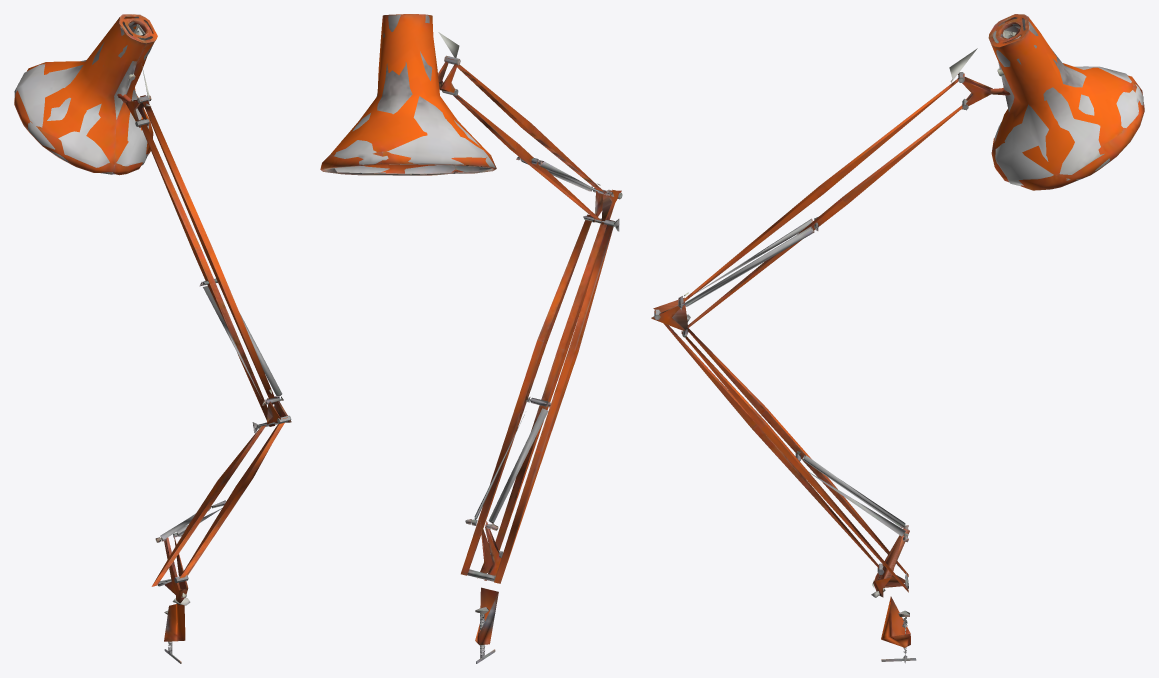
The model's file is task-lamp-low.glb.
The picture shows the model from 3 angles, left to right: view 1: azimuth 30°, elevation 25°; view 2: azimuth 150°, elevation 25°; view 3: azimuth 270°, elevation 25°; orthographic projection. The views are drawn at different scales.
Visible parts, largest first — view 1: desk_lamp_arm_01; view 2: desk_lamp_arm_01; view 3: desk_lamp_arm_01.
Boxes of the visible parts, <box> form: desk_lamp_arm_01: <box>14,14,291,663</box>; desk_lamp_arm_01: <box>320,14,622,663</box>; desk_lamp_arm_01: <box>651,14,1144,663</box>.
Bounding box in the file's own units: 0.2017 × 0.8926 × 0.6132.
2 materials, 2 textured.
